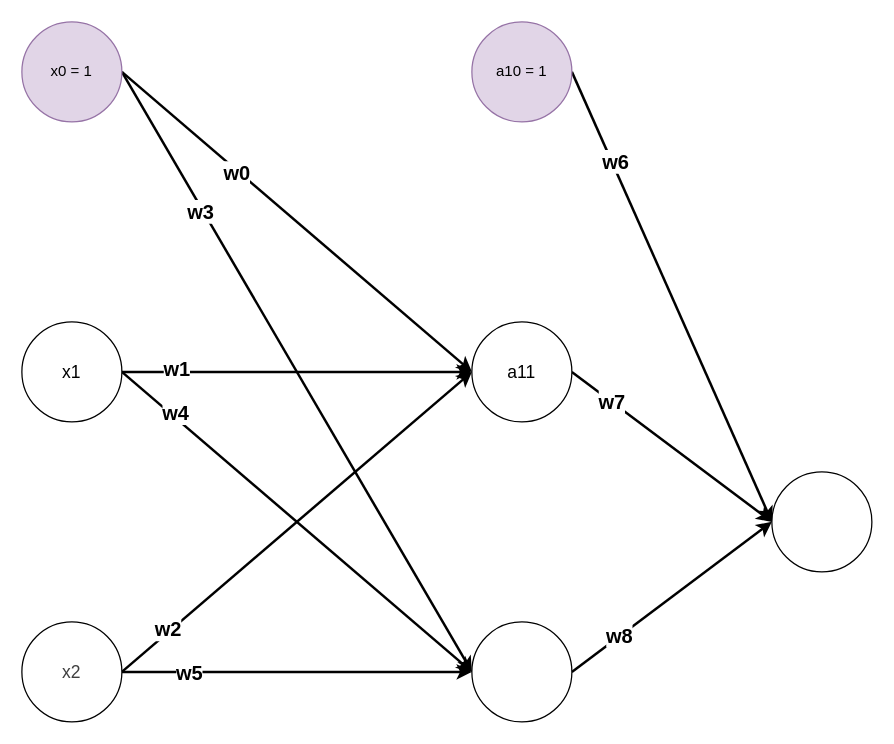
Some shapes in this 894 by 744 pixel diagram are drawn without their labels. The shapes that lost their labels are listed below. From the top down, each one's box as (x1, y1, x2, y2) in pixels, then its label:
(771, 471, 872, 572): a31
(471, 621, 572, 722): a12
